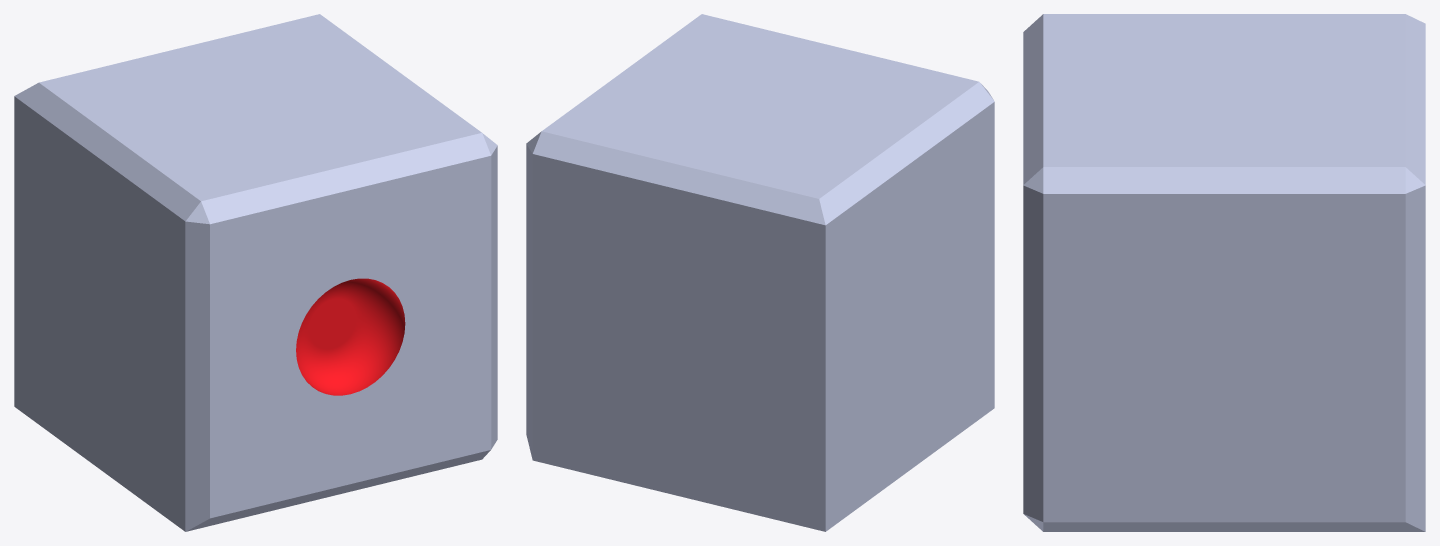
Rendered from saikoro.glb.
3 views of the same model, side by side, from view 1: azimuth 30°, elevation 25°; view 2: azimuth 150°, elevation 25°; view 3: azimuth 270°, elevation 25° (orthographic). The views are drawn at different scales.
Visible parts, largest first — view 1: saikoro; view 2: saikoro; view 3: saikoro.
Boxes of the visible parts, x1,y1,x2,y2 form: saikoro: (14, 14, 497, 531); saikoro: (526, 14, 994, 531); saikoro: (1023, 14, 1425, 531).
Size of the model in its own units: 0.02 by 0.02 by 0.02.
